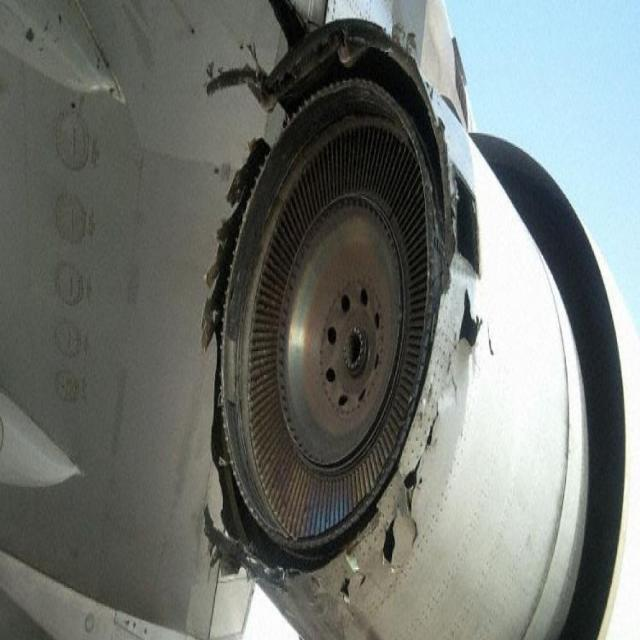crack: (334, 299, 504, 610), (201, 57, 296, 593)
